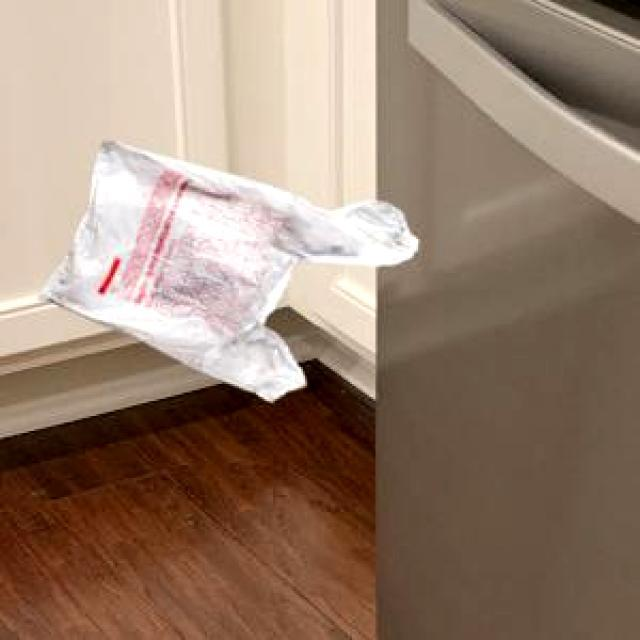Plastic_Bag: (35, 140, 415, 398)
